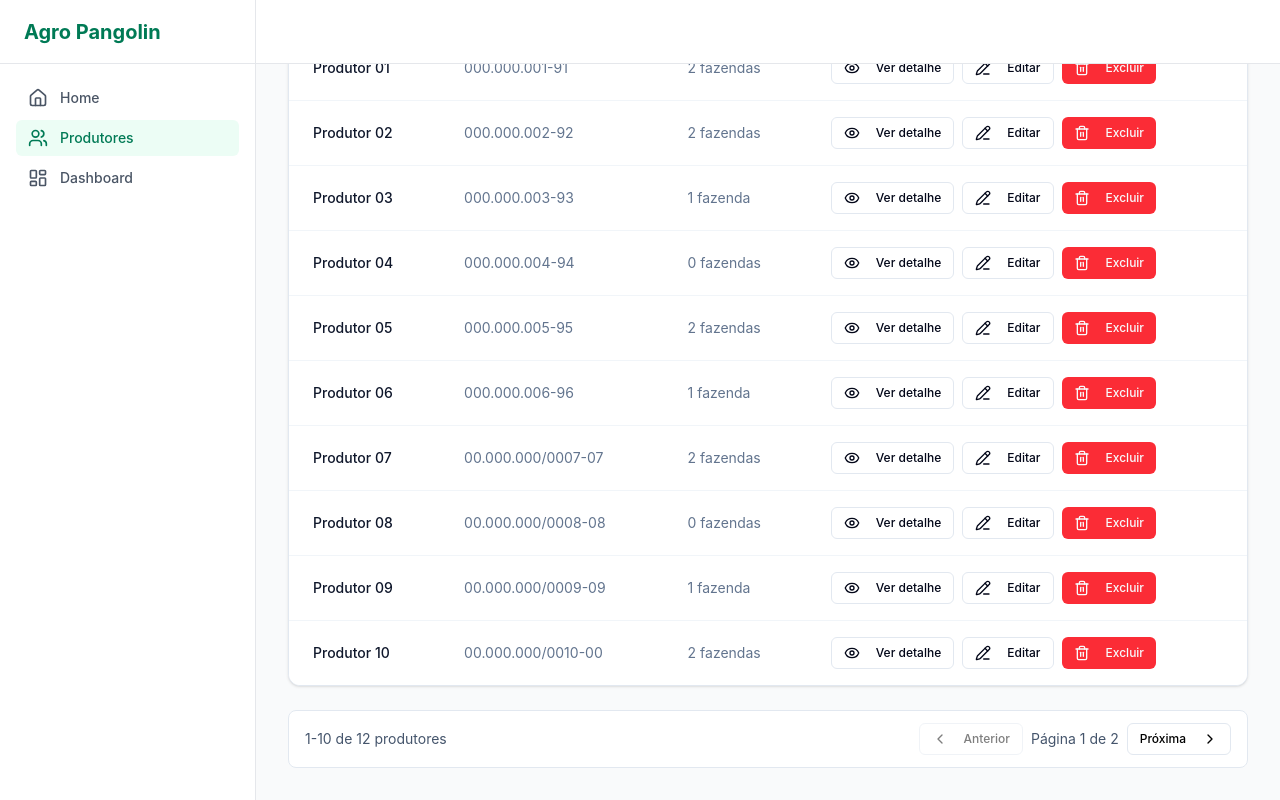
Test: Página de listagem de produtores › troca de página ao clicar em próxima
(page scrolled)
Expected: the text "Produtor 01" is shown, [313,64,390,76]
Click the button "Próxima".
click(1179, 739)  # box [1127,723,1231,755]
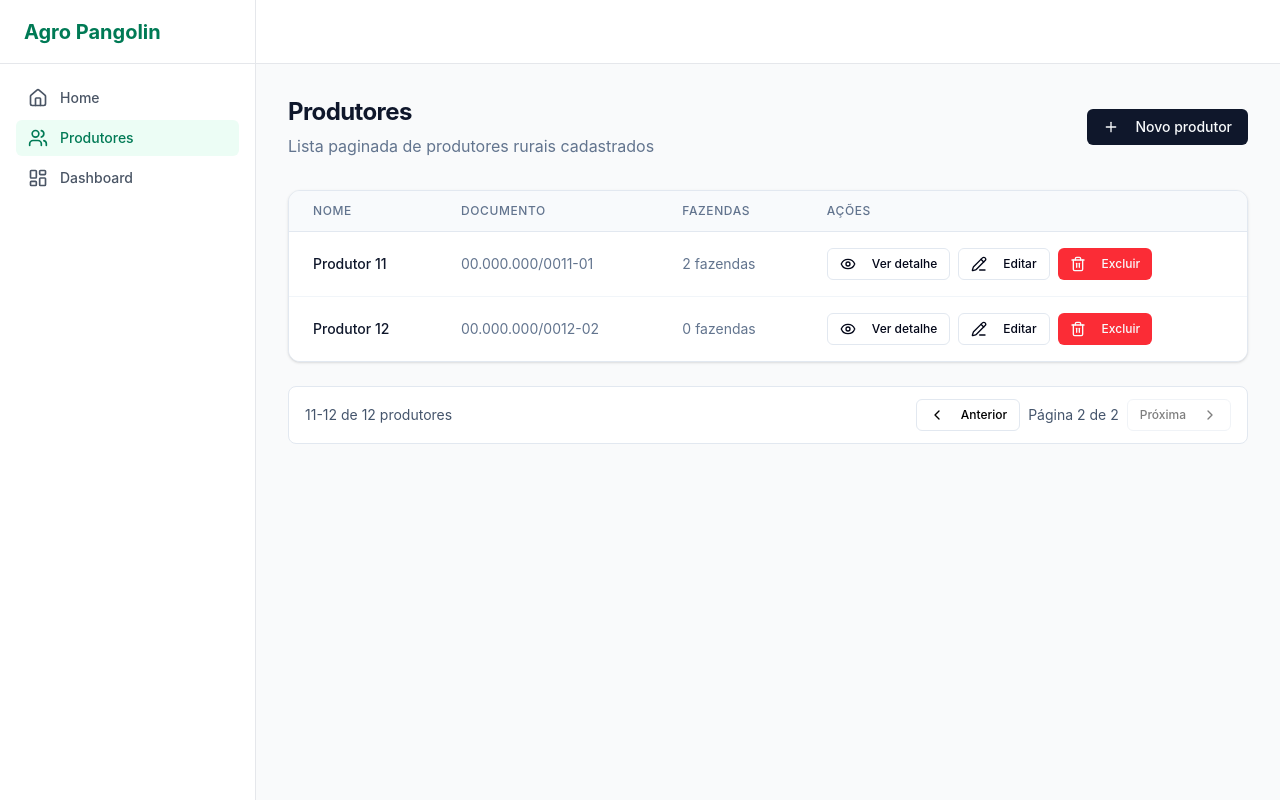
Expected: the text "Produtor 11" is shown, [289,232,437,296]
Expected: the text "Página 2 de 2" is shown, [1028,405,1119,425]
